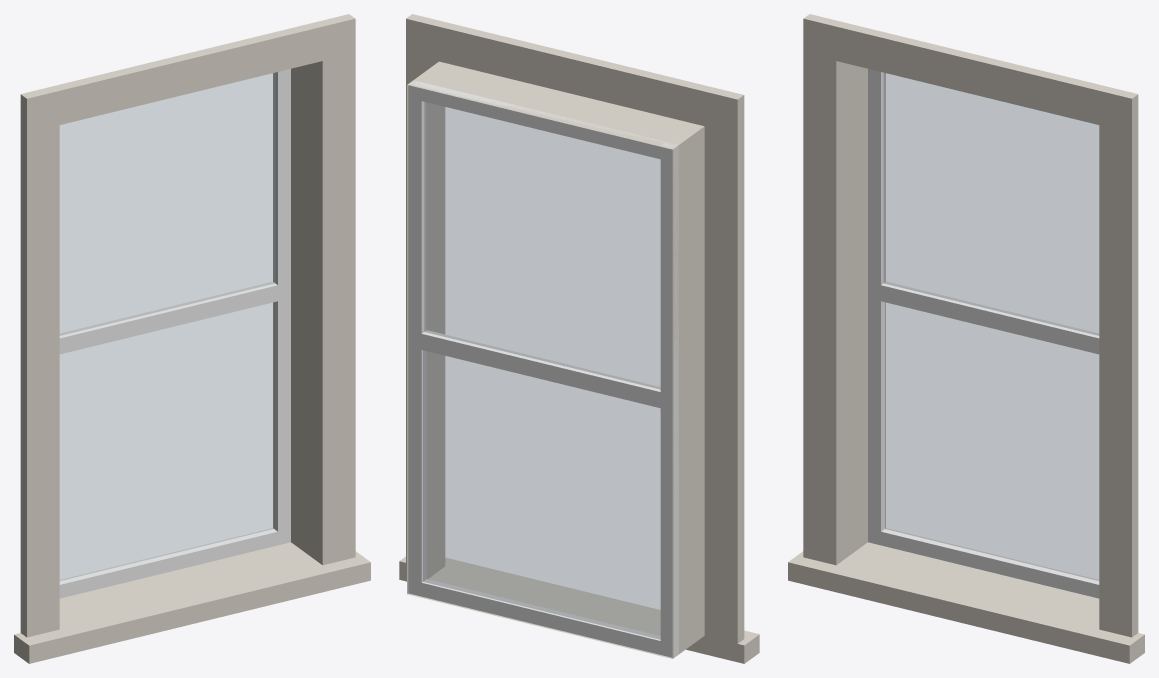
Rendered from win_dh_stone_1.2x2.2.glb.
3 renders of one model, left to right at view 1: azimuth 30°, elevation 25°; view 2: azimuth 150°, elevation 25°; view 3: azimuth 330°, elevation 25°, orthographic.
Parts seen in each view (by area): view 1: win_dh; view 2: win_dh; view 3: win_dh.
Part boxes in pixels (left/top/right/bottom): win_dh: left=14, top=14, right=370, bottom=663; win_dh: left=399, top=14, right=759, bottom=663; win_dh: left=788, top=14, right=1144, bottom=663.
Bounding box in the file's own units: 1.56 × 2.43 × 0.37.
